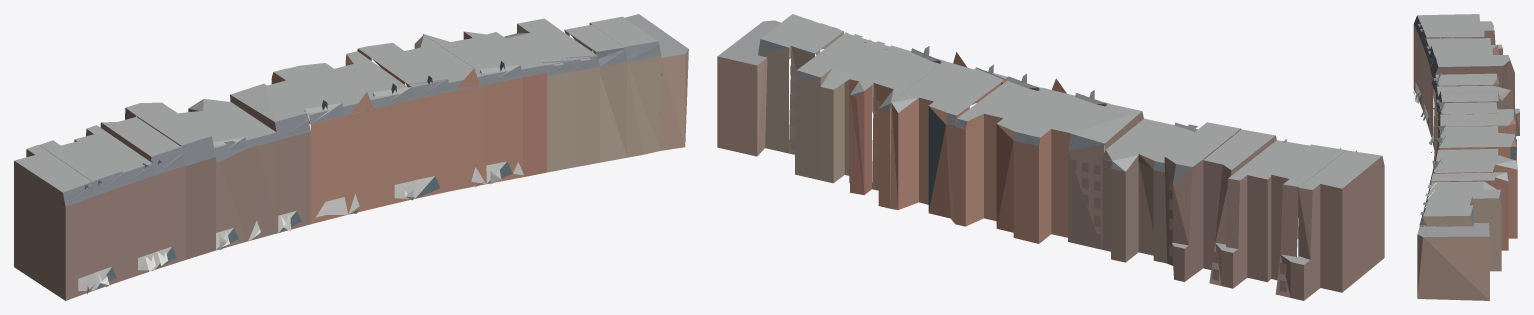
File: chunk-face-nassau-162289.lod2.glb
3 views of the same model, side by side, from view 1: azimuth 30°, elevation 25°; view 2: azimuth 150°, elevation 25°; view 3: azimuth 270°, elevation 25° (orthographic). The views are drawn at different scales.
Visible parts, largest first — view 1: lod2; view 2: lod2; view 3: lod2.
Part boxes in pixels (x1,y1,x2,y2): lod2: (14,14,688,300); lod2: (717,14,1384,300); lod2: (1413,14,1519,300).
Size of the model in its own units: 116 by 20.78 by 24.49.
